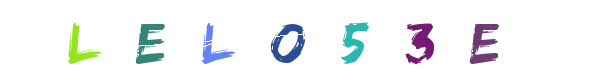3: (299, 0, 379, 80)
5: (266, 0, 346, 80)
E: (178, 0, 258, 80), (412, 0, 492, 80)
L: (38, 0, 118, 80), (180, 0, 260, 80)
O: (257, 0, 337, 80)
